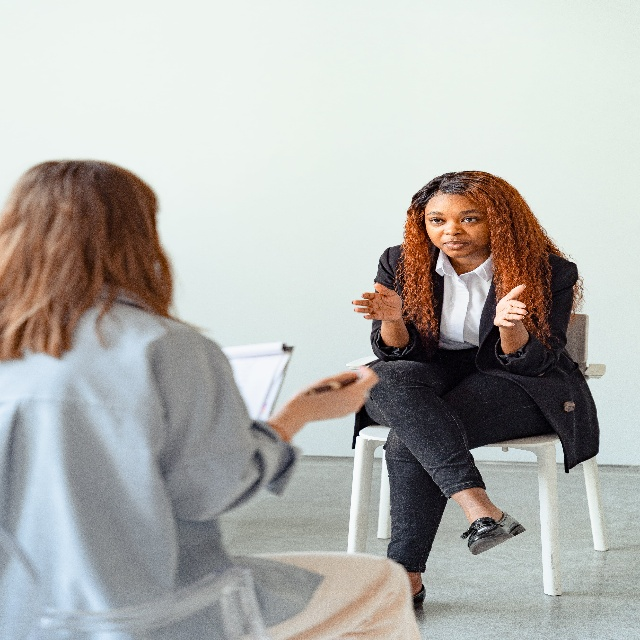Sin_guantes: (293, 366, 378, 422), (351, 283, 403, 322), (493, 284, 527, 327)
